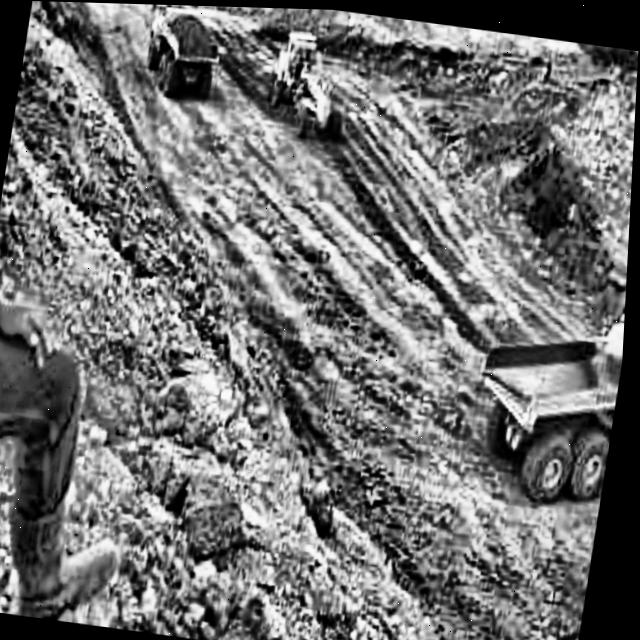buldozerpayloadergrader: (249, 6, 371, 189)
dump_truck: (441, 267, 630, 510), (119, 3, 234, 123)
